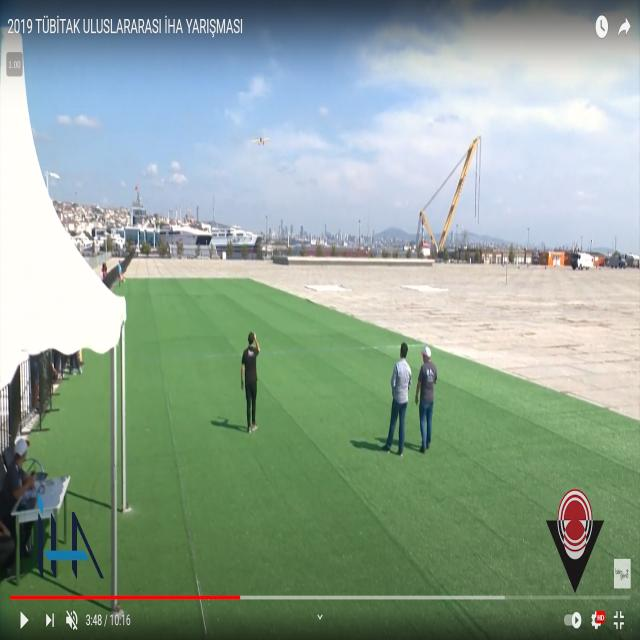iha: (251, 139, 270, 143)
